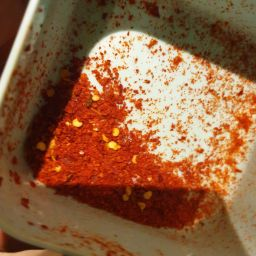Red pepper flakes: (85, 4, 256, 144), (111, 85, 216, 245), (51, 45, 127, 202), (184, 69, 256, 219), (14, 116, 84, 225)
